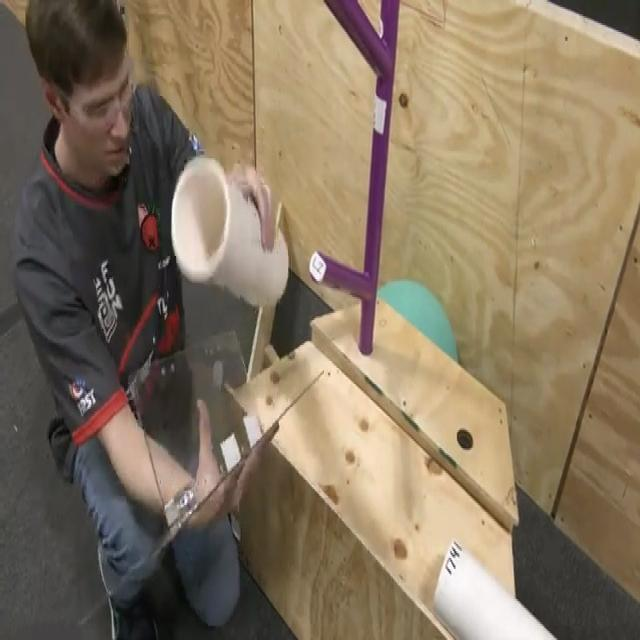Coral: (169, 153, 290, 309), (434, 538, 558, 640)
